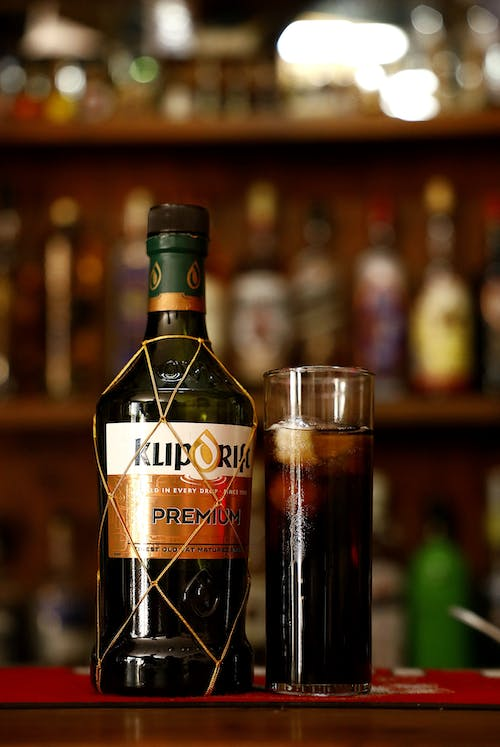alcohol: (91, 201, 259, 700), (262, 364, 378, 698)
